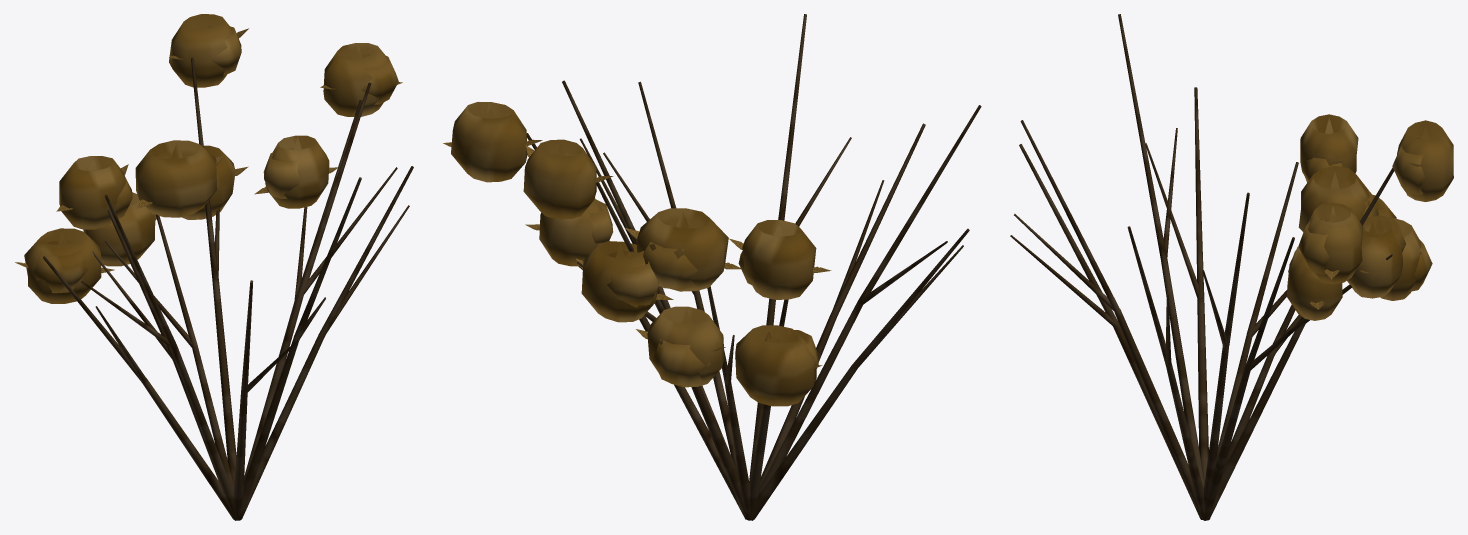
The model's file is brush_dry02-lod0.glb.
The picture shows the model from 3 angles, left to right: view 1: azimuth 30°, elevation 25°; view 2: azimuth 150°, elevation 25°; view 3: azimuth 270°, elevation 25°; orthographic projection. The views are drawn at different scales.
Visible parts, largest first — view 1: TZ_filbert_shrub_Batch_00_LOD0, TZ_filbert_shrub_Batch_02_LOD0, TZ_filbert_shrub_Batch_01_LOD0; view 2: TZ_filbert_shrub_Batch_00_LOD0, TZ_filbert_shrub_Batch_02_LOD0, TZ_filbert_shrub_Batch_01_LOD0; view 3: TZ_filbert_shrub_Batch_02_LOD0, TZ_filbert_shrub_Batch_00_LOD0.
Boxes of the visible parts, left/top/right/bottom form: TZ_filbert_shrub_Batch_00_LOD0: left=24, top=14, right=398, bottom=303; TZ_filbert_shrub_Batch_02_LOD0: left=43, top=57, right=413, bottom=520; TZ_filbert_shrub_Batch_01_LOD0: left=15, top=28, right=402, bottom=273; TZ_filbert_shrub_Batch_00_LOD0: left=451, top=101, right=818, bottom=406; TZ_filbert_shrub_Batch_02_LOD0: left=526, top=14, right=981, bottom=520; TZ_filbert_shrub_Batch_01_LOD0: left=443, top=139, right=831, bottom=370; TZ_filbert_shrub_Batch_02_LOD0: left=1010, top=14, right=1394, bottom=520; TZ_filbert_shrub_Batch_00_LOD0: left=1287, top=114, right=1453, bottom=320.
Size of the model in its own units: 1.79 by 1.65 by 1.54.
3 materials, 3 textured.
